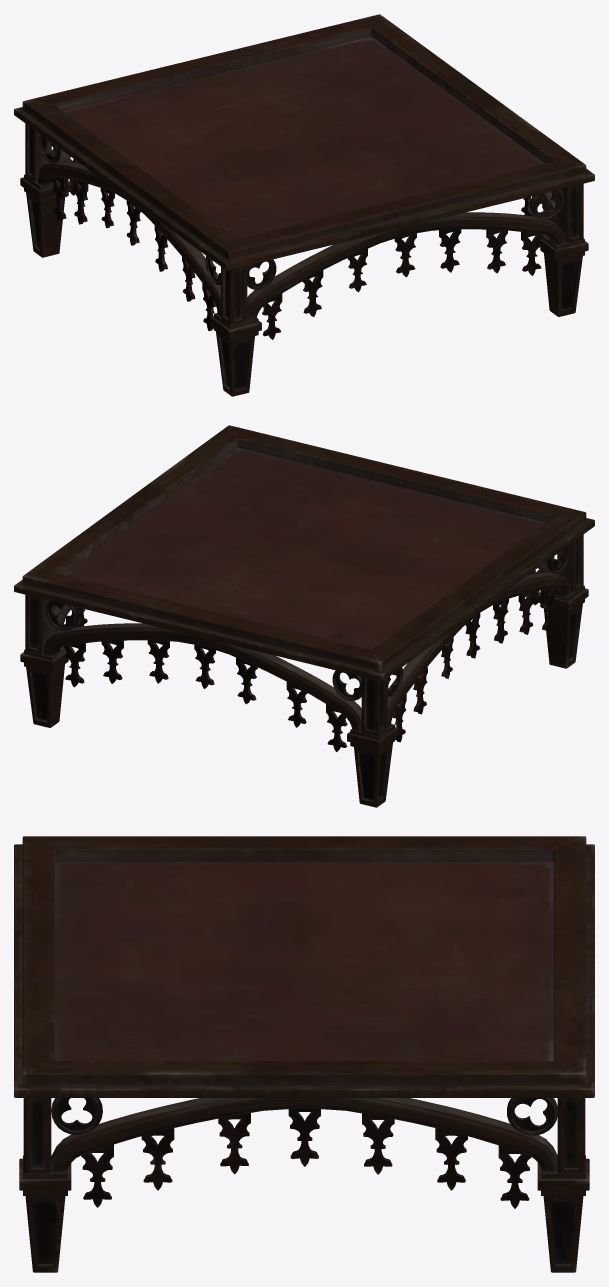
The model's file is ph-gothic_coffee_table.glb.
3 views of the same model, one above another, from view 1: azimuth 30°, elevation 25°; view 2: azimuth 150°, elevation 25°; view 3: azimuth 270°, elevation 25° (orthographic). The views are drawn at different scales.
Visible parts, largest first — view 1: gothic_coffee_table; view 2: gothic_coffee_table; view 3: gothic_coffee_table.
Part boxes in pixels (<box>): gothic_coffee_table: <box>14,14,594,396</box>; gothic_coffee_table: <box>14,425,594,807</box>; gothic_coffee_table: <box>14,836,594,1272</box>.
Bounding box in the file's own units: 1 × 0.3872 × 1.
Materials: 1 (1 with a texture image).
